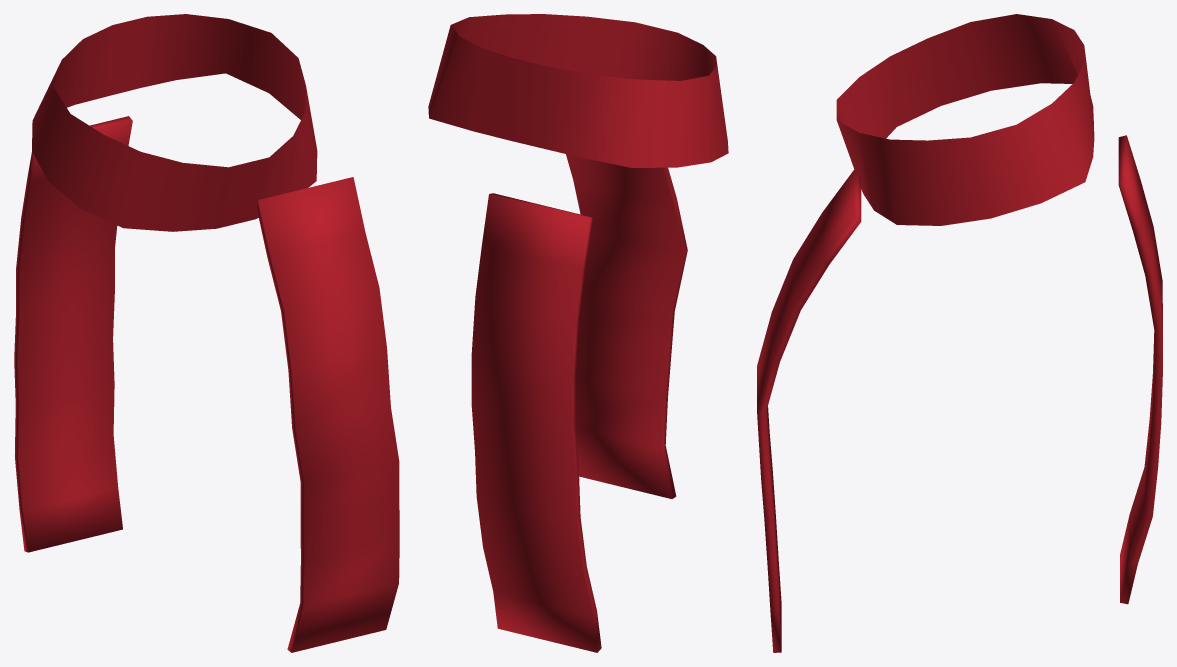
Rendered from scarf.glb.
3 renders of one model, left to right at view 1: azimuth 30°, elevation 25°; view 2: azimuth 150°, elevation 25°; view 3: azimuth 270°, elevation 25°, orthographic. The views are drawn at different scales.
Parts seen in each view (by area): view 1: scarf; view 2: scarf; view 3: scarf.
Part boxes in pixels (x1,y1,x2,y2): scarf: (14,14,399,652); scarf: (428,14,728,652); scarf: (757,14,1162,652).
Size of the model in its own units: 0.213 by 0.4237 by 0.2859.
